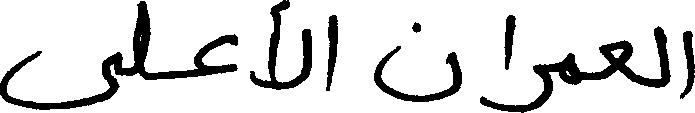X: (375, 17, 462, 106), (0, 46, 117, 112), (251, 0, 311, 94), (195, 29, 236, 81), (517, 59, 552, 112), (600, 35, 631, 85), (132, 0, 150, 84), (504, 10, 515, 112), (655, 21, 670, 92), (326, 10, 336, 95), (684, 26, 694, 101), (560, 48, 578, 89)
